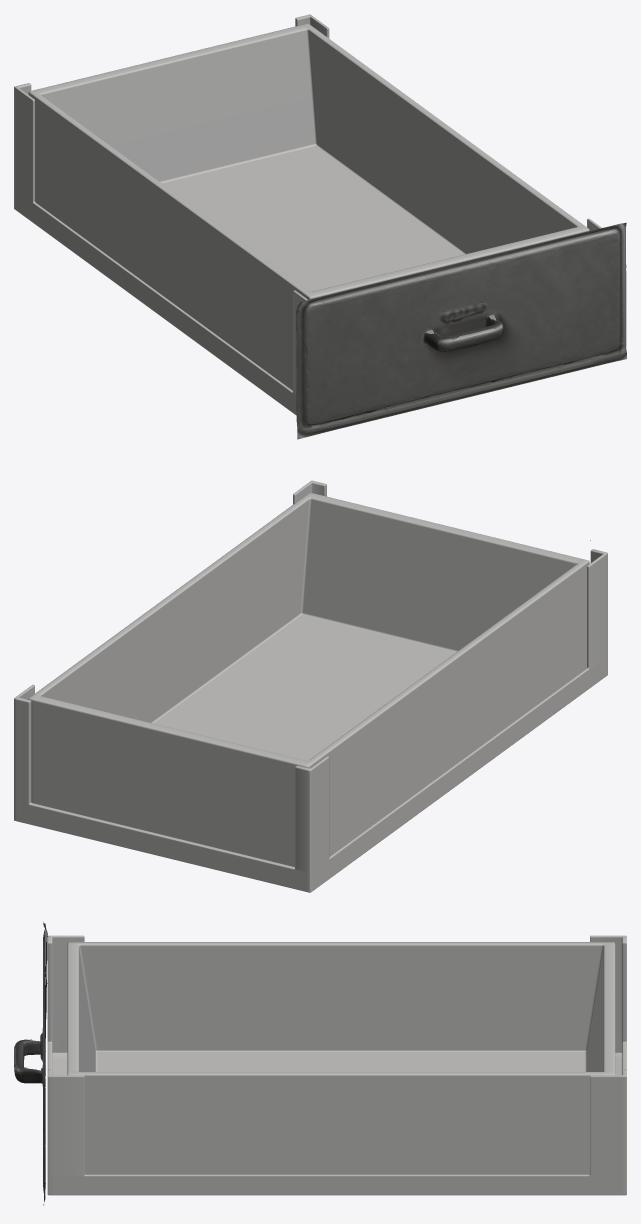
The model's file is drawer_front.glb.
3 views of the same model, one above another, from view 1: azimuth 30°, elevation 25°; view 2: azimuth 150°, elevation 25°; view 3: azimuth 270°, elevation 25° (orthographic). The views are drawn at different scales.
Parts seen in each view (by area): view 1: prefab_drawer_body_1, source_front_cap_0; view 2: prefab_drawer_body_1; view 3: prefab_drawer_body_1, source_front_cap_0.
Part boxes in pixels (left/top/right/bottom): prefab_drawer_body_1: left=14, top=14, right=601, bottom=415; source_front_cap_0: left=296, top=222, right=626, bottom=439; prefab_drawer_body_1: left=14, top=480, right=607, bottom=892; prefab_drawer_body_1: left=47, top=935, right=626, bottom=1195; source_front_cap_0: left=14, top=922, right=47, bottom=1205.
Bounding box in the file's own units: 0.1755 × 0.0693 × 0.2908.
Materials: 2 (1 with a texture image).
